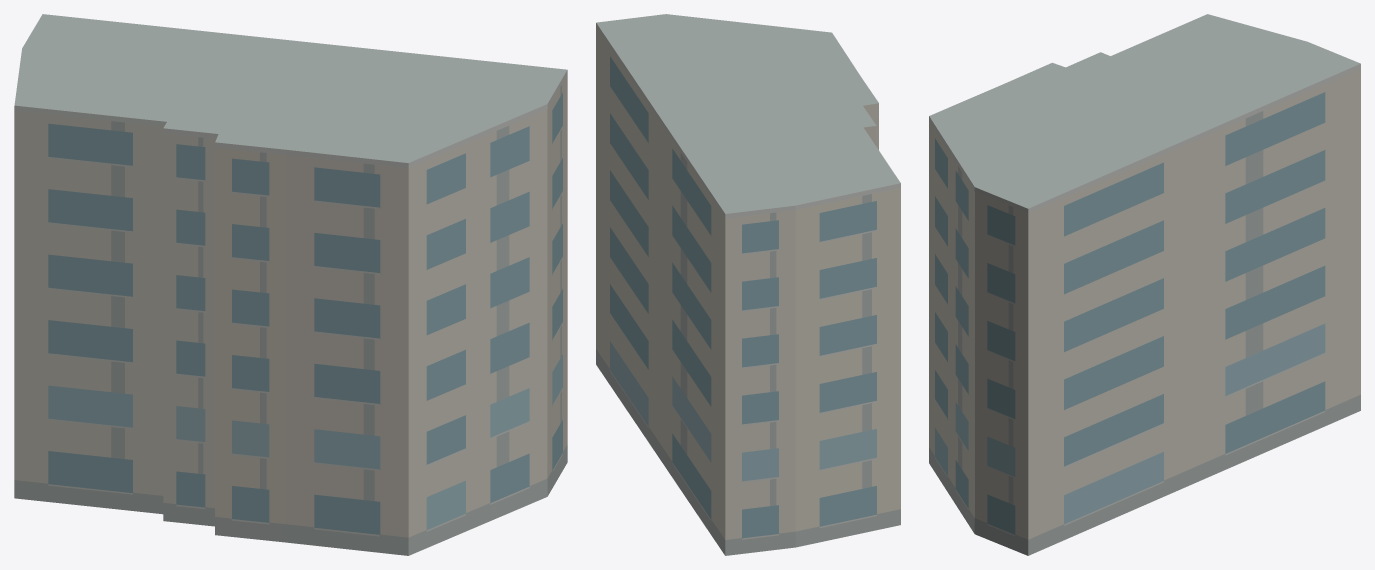
File: survey-upis-32630652.glb
3 renders of one model, left to right at view 1: azimuth 30°, elevation 25°; view 2: azimuth 150°, elevation 25°; view 3: azimuth 270°, elevation 25°, orthographic. The views are drawn at different scales.
Visible parts, largest first — view 1: survey-upis-32630652.tmp; view 2: survey-upis-32630652.tmp; view 3: survey-upis-32630652.tmp.
Boxes of the visible parts, left/top/right/bottom form: survey-upis-32630652.tmp: left=14, top=14, right=567, bottom=555; survey-upis-32630652.tmp: left=596, top=14, right=900, bottom=555; survey-upis-32630652.tmp: left=929, top=14, right=1360, bottom=555.
Bounding box in the file's own units: 21.91 × 18.2 × 20.52.
